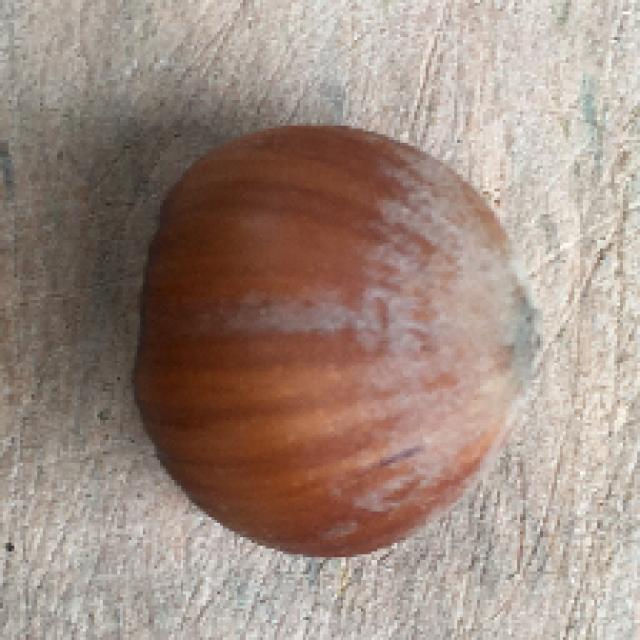qualityHazelnut: (119, 106, 549, 568)
